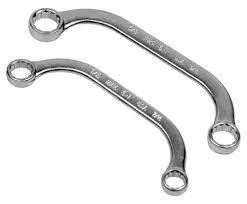wrench: (26, 5, 241, 154), (4, 56, 189, 196)
